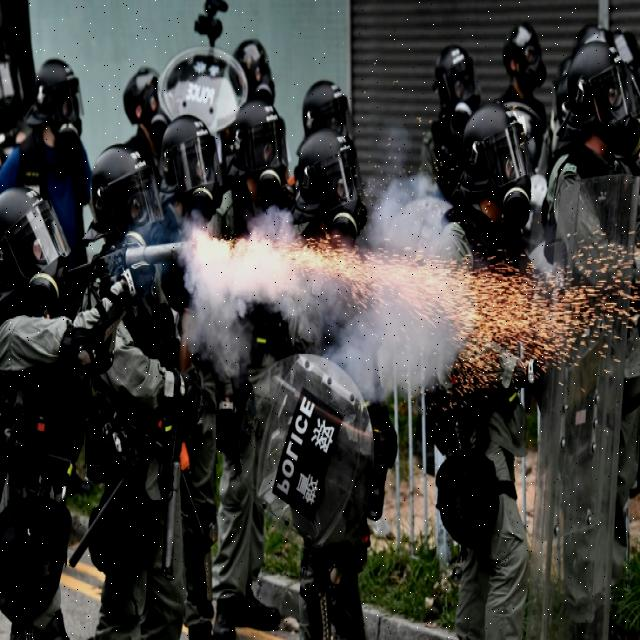police: (0, 133, 201, 640), (270, 69, 420, 640), (83, 119, 225, 640), (442, 87, 572, 640), (538, 10, 640, 640), (208, 87, 294, 640)
